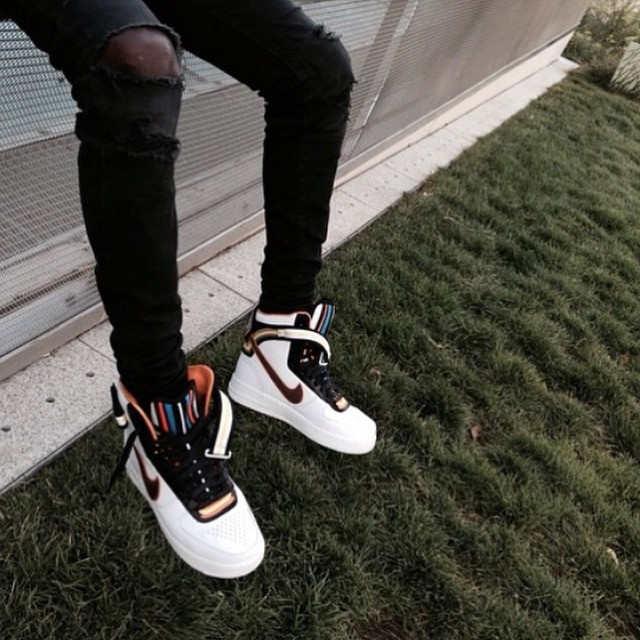sneaker: (86, 352, 282, 593), (215, 282, 397, 473)
